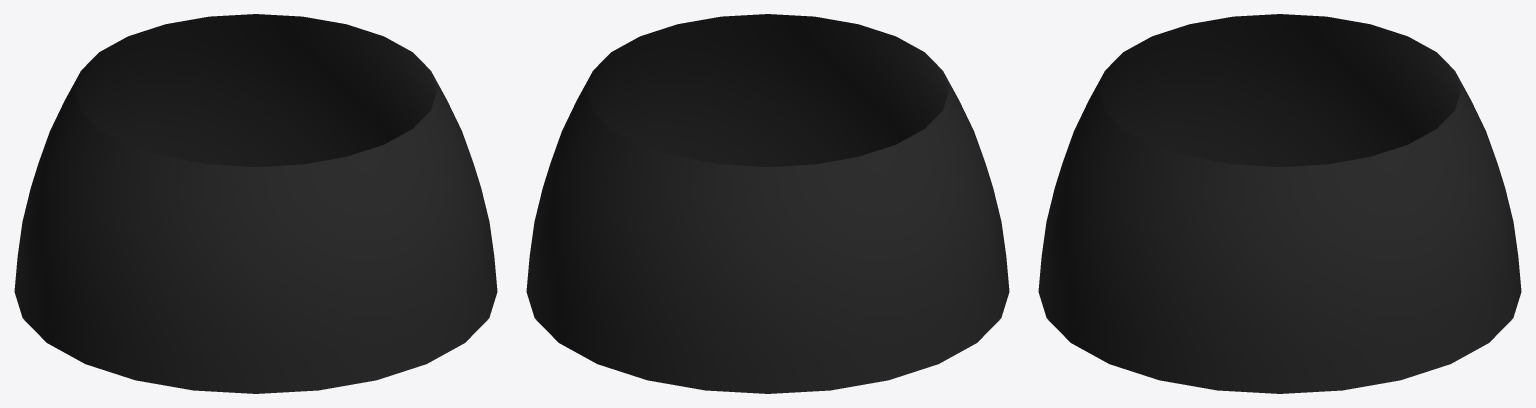
The model's file is hadar_adapter_s1_s0p5_2_plain.obj.
3 views of the same model, side by side, from view 1: azimuth 30°, elevation 25°; view 2: azimuth 150°, elevation 25°; view 3: azimuth 270°, elevation 25° (orthographic).
Visible parts, largest first — view 1: mesh; view 2: mesh; view 3: mesh.
Part boxes in pixels (x1,y1,x2,y2): mesh: (14, 14, 497, 393); mesh: (526, 14, 1009, 393); mesh: (1038, 14, 1521, 393).
Bounding box in the file's own units: 1.25 × 0.575 × 1.25.
